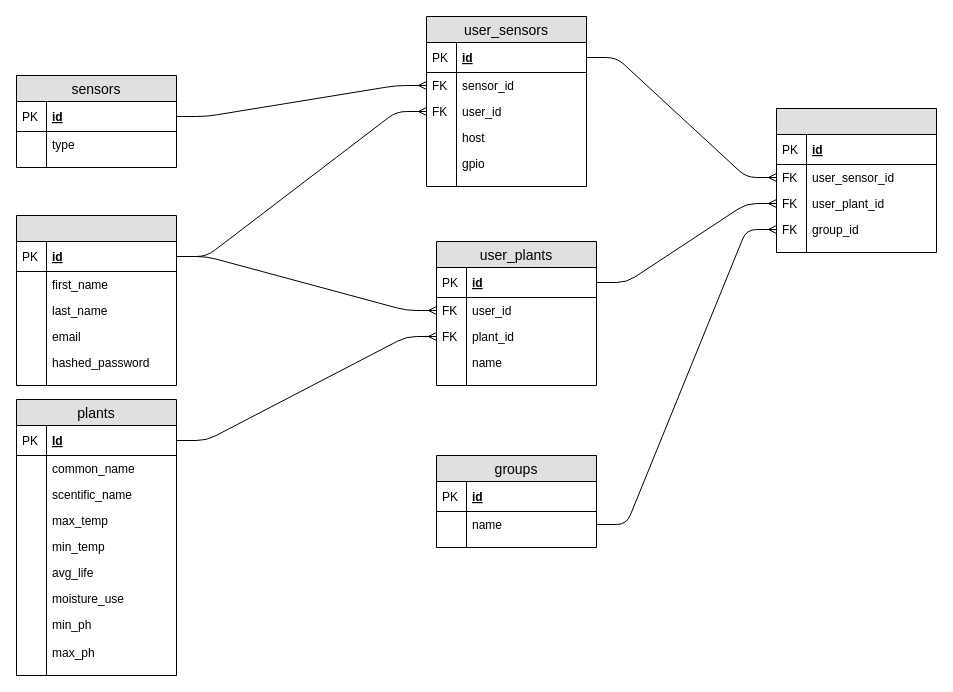
This 953x692 diagram has some shape labels left out. The shapes that lost their labels are listed below. From the top down, each one's box as (x1, y1, x2, y2) in pixels, then its label:
(776, 108, 936, 252): sensor_plant_groups
(16, 214, 176, 386): users
